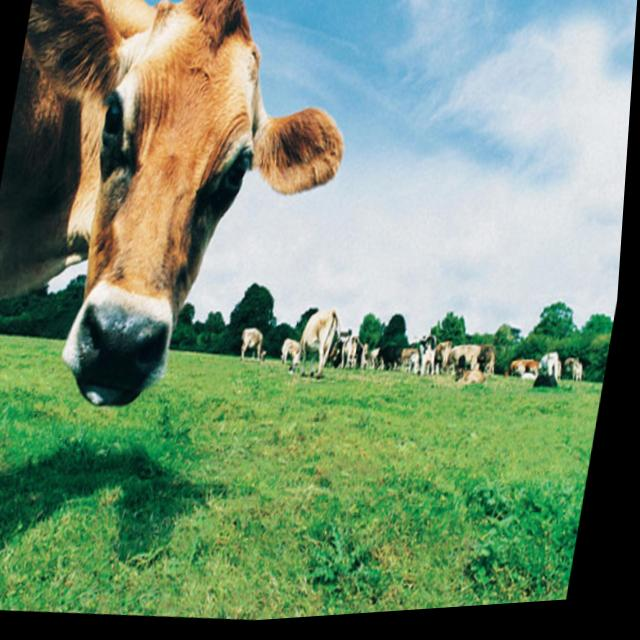cowFace: (0, 0, 382, 448)
